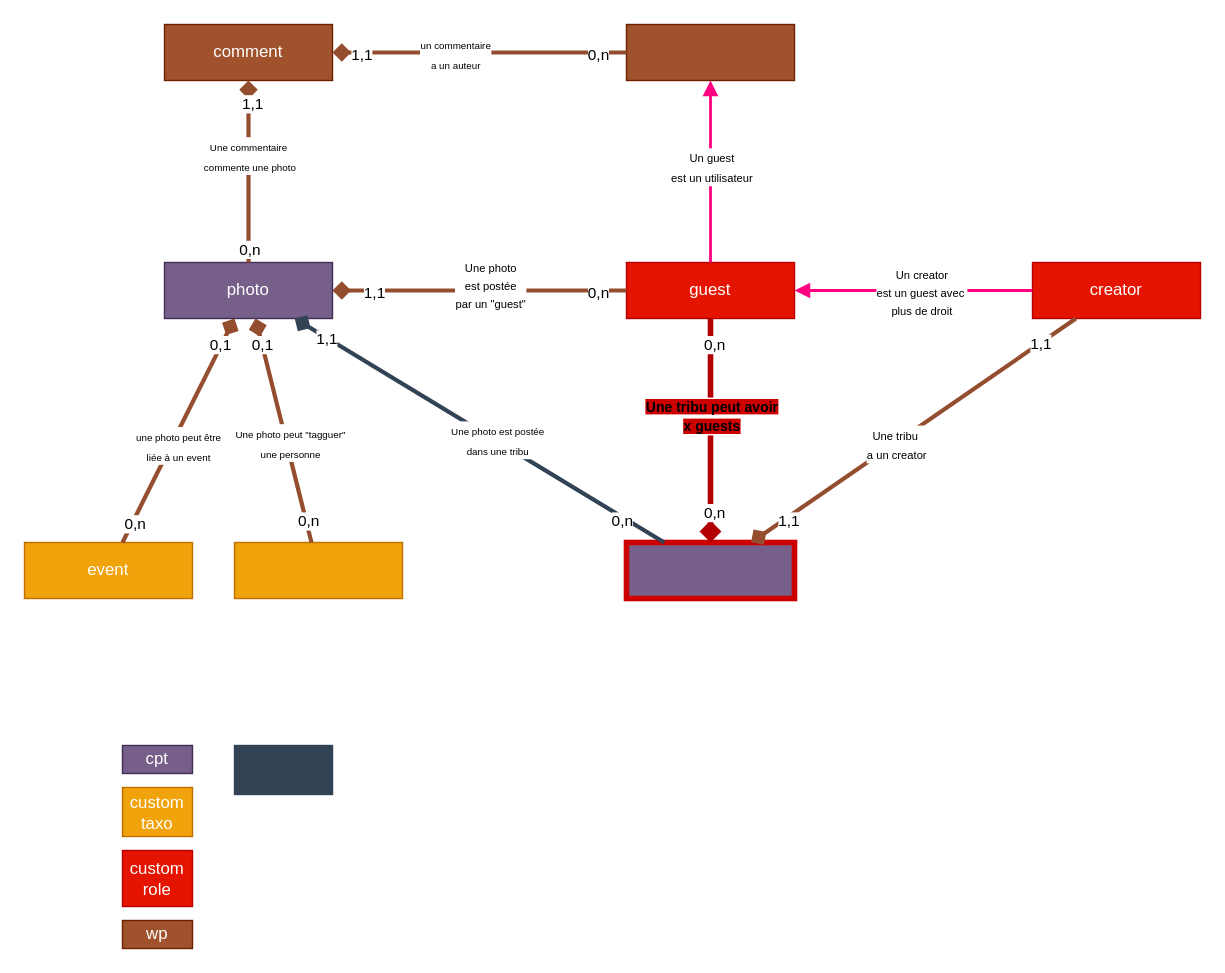
This 1225x973 diagram has some shape labels left out. The shapes that lost their labels are listed below. From the top down, each one's centre as x and y in pixels, then its label:
(709,51): user
(317,569): person
(710,570): tribe
(282,769): custom meta
